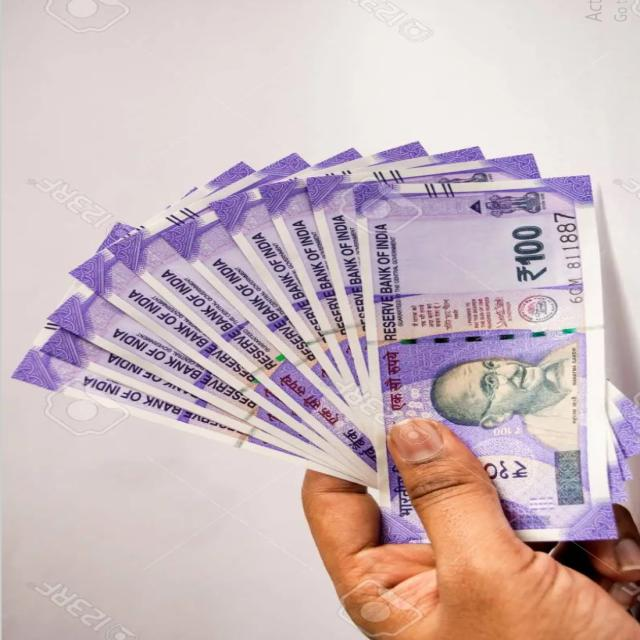100IndianRupees: (355, 176, 621, 542), (354, 349, 637, 538), (358, 183, 610, 347)
